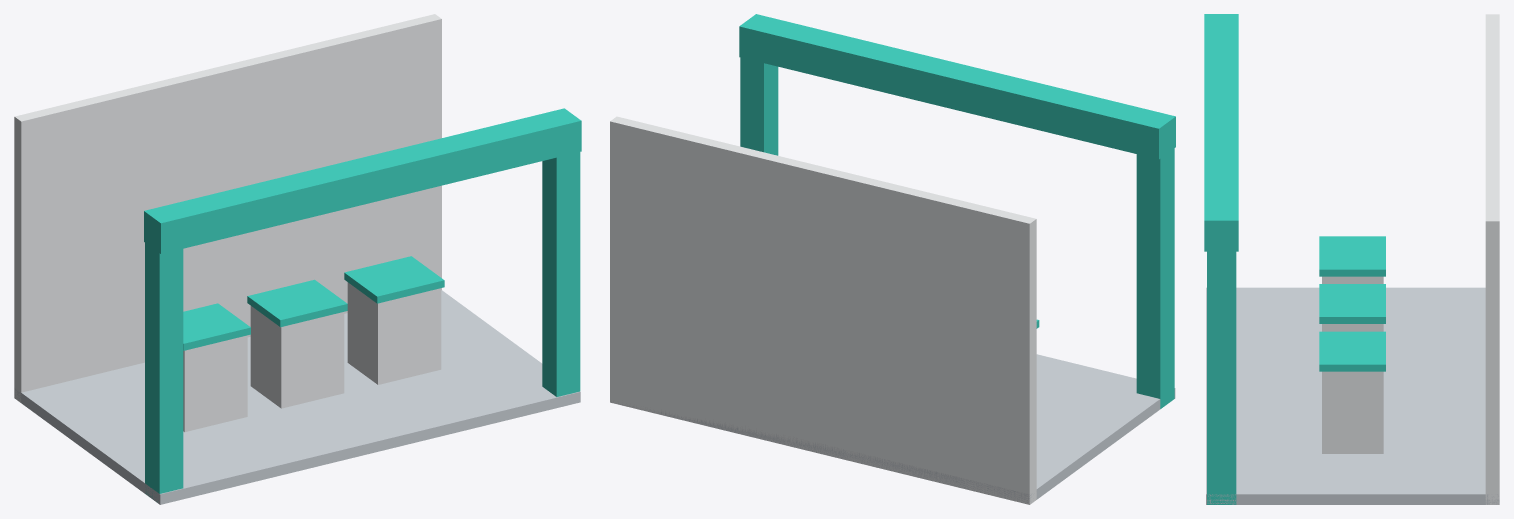
The picture shows the model from 3 angles, left to right: view 1: azimuth 30°, elevation 25°; view 2: azimuth 150°, elevation 25°; view 3: azimuth 270°, elevation 25°; orthographic projection.
Parts seen in each view (by area): view 1: Exhibition Booth Concept; view 2: Exhibition Booth Concept; view 3: Exhibition Booth Concept.
Part boxes in pixels (x1=…): Exhibition Booth Concept: x1=14, y1=14, x2=581, y2=504; Exhibition Booth Concept: x1=610, y1=14, x2=1175, y2=504; Exhibition Booth Concept: x1=1204, y1=14, x2=1499, y2=504.
Bounding box in the file's own units: 5 × 3.2 × 3.01.
